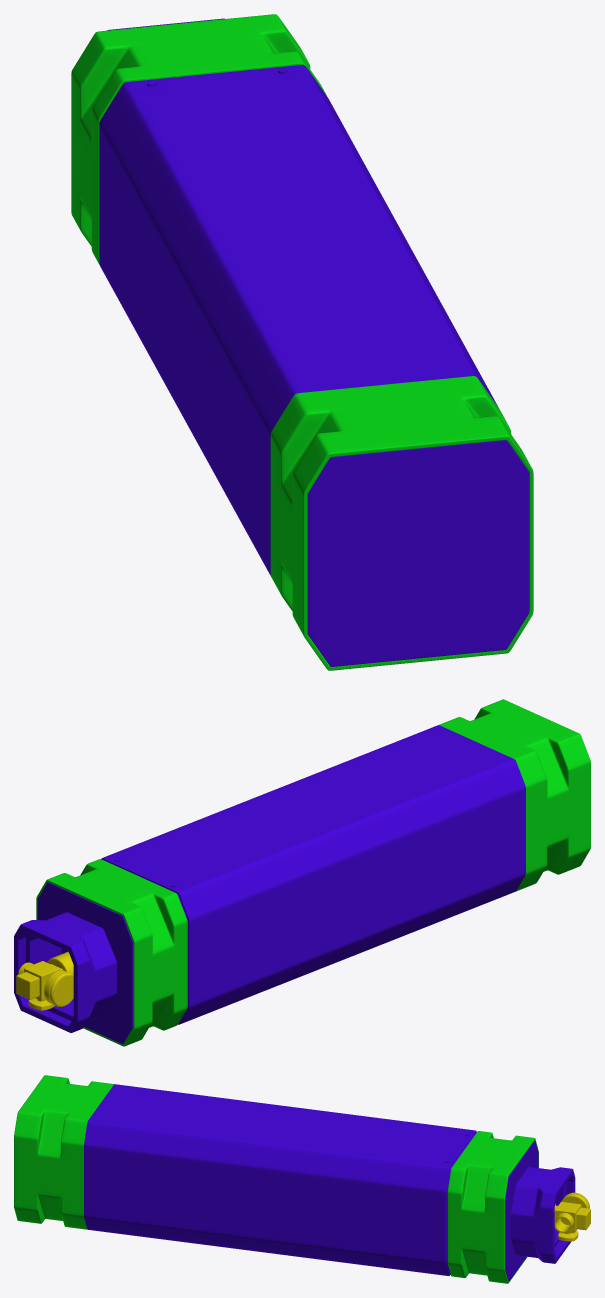
File: Good.fbx
3 renders of one model, top to bottom at view 1: azimuth 30°, elevation 25°; view 2: azimuth 150°, elevation 25°; view 3: azimuth 270°, elevation 25°, orthographic. The views are drawn at different scales.
Parts seen in each view (by area): view 1: Cannister Good; view 2: Cannister Good; view 3: Cannister Good.
Part boxes in pixels (box(x1,y1,x2,y2)): Cannister Good: box(71, 14, 533, 670); Cannister Good: box(14, 699, 590, 1046); Cannister Good: box(14, 1075, 590, 1283).
Bounding box in the file's own units: 77.36 × 35.88 × 170.
